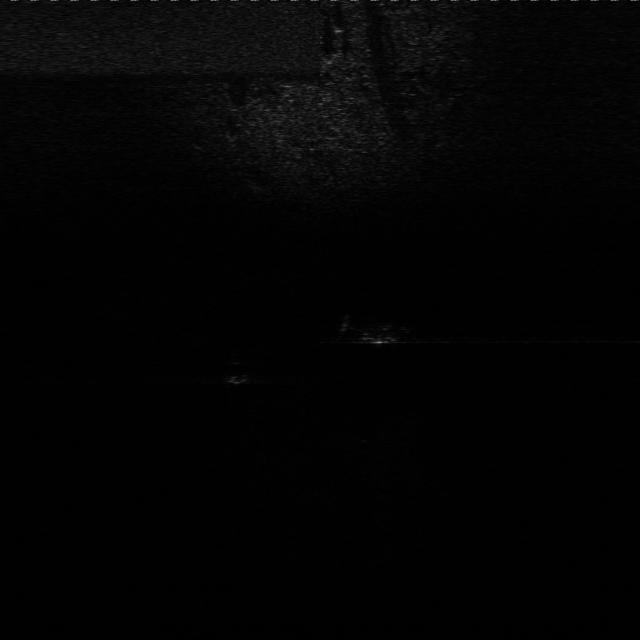ball: (220, 358, 260, 384)
human body: (338, 313, 419, 348)
